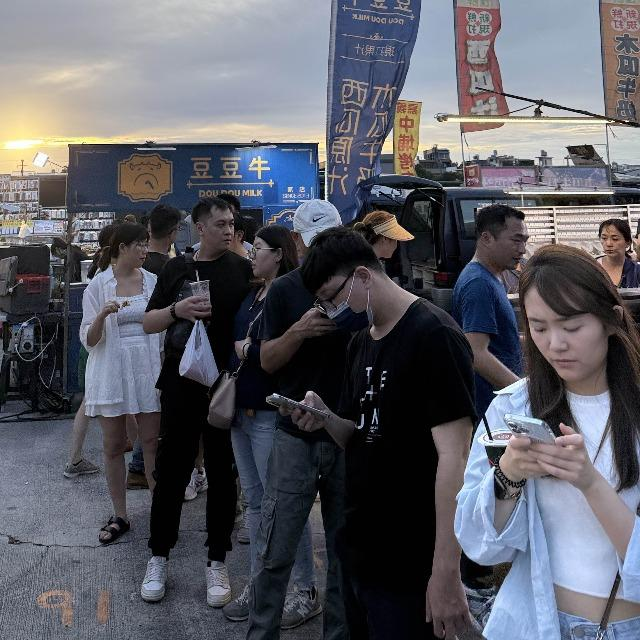NoHelmet: (518, 246, 614, 381), (474, 202, 527, 272), (190, 196, 236, 252), (108, 222, 151, 272)
NoVest: (486, 379, 640, 616)
